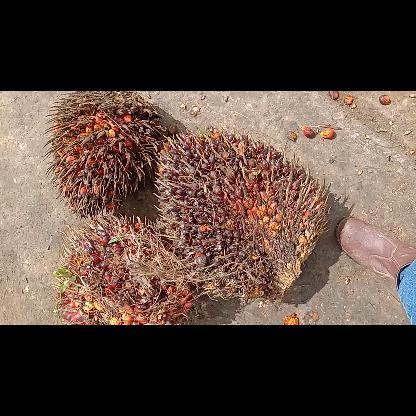Kurang masak: (157, 129, 331, 304)
TBS masak: (57, 218, 207, 324)
Terlalu masak: (51, 92, 166, 214)
